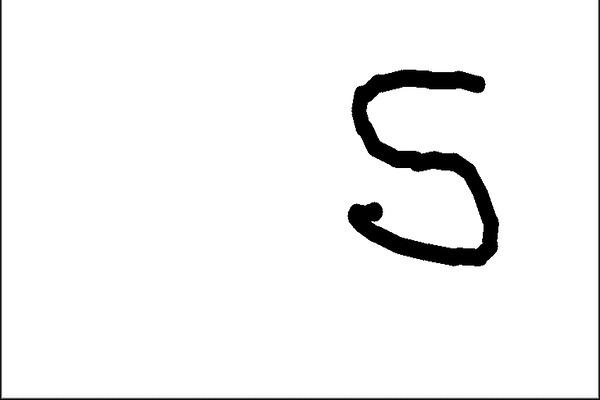S: (330, 55, 511, 277)
